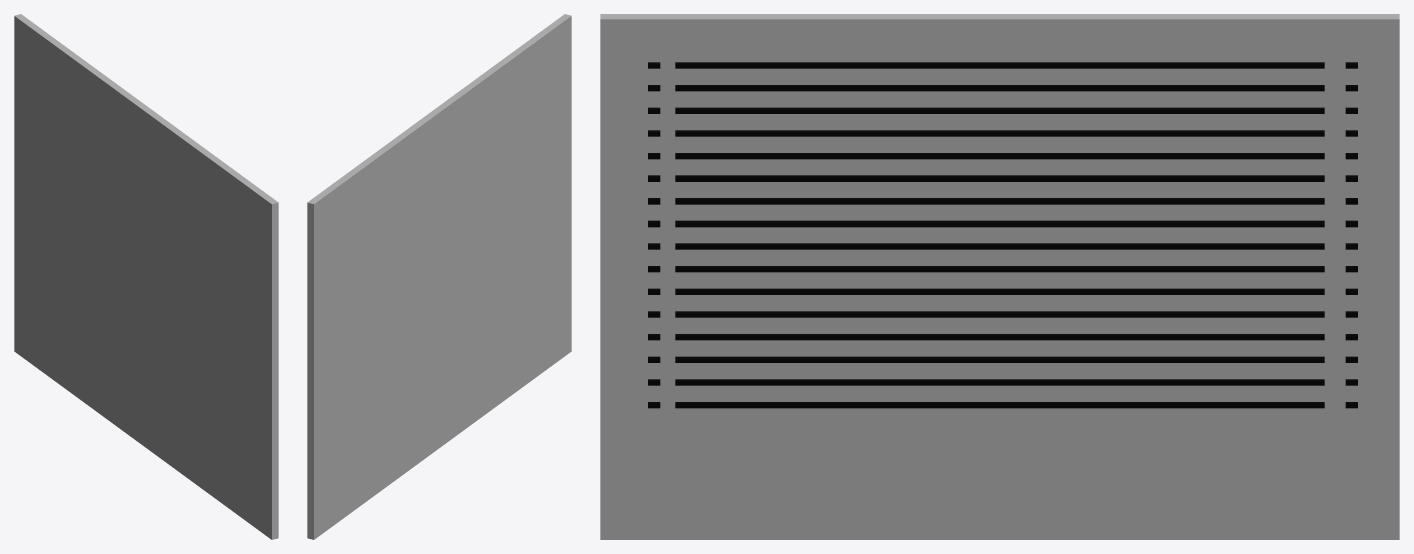
File: SM_jailPhotoBacground_01.glb
3 renders of one model, left to right at view 1: azimuth 30°, elevation 25°; view 2: azimuth 150°, elevation 25°; view 3: azimuth 270°, elevation 25°, orthographic. The views are drawn at different scales.
Parts seen in each view (by area): view 1: SM_jailPhotoBacground_01; view 2: SM_jailPhotoBacground_01; view 3: SM_jailPhotoBacground_01.
Part boxes in pixels (x1=…): SM_jailPhotoBacground_01: x1=14, y1=14, x2=278, y2=539; SM_jailPhotoBacground_01: x1=307, y1=14, x2=571, y2=539; SM_jailPhotoBacground_01: x1=600, y1=14, x2=1399, y2=539.
Size of the model in its own units: 0.0679 by 2.3 by 3.2.
Materials: 1 (1 with a texture image).
